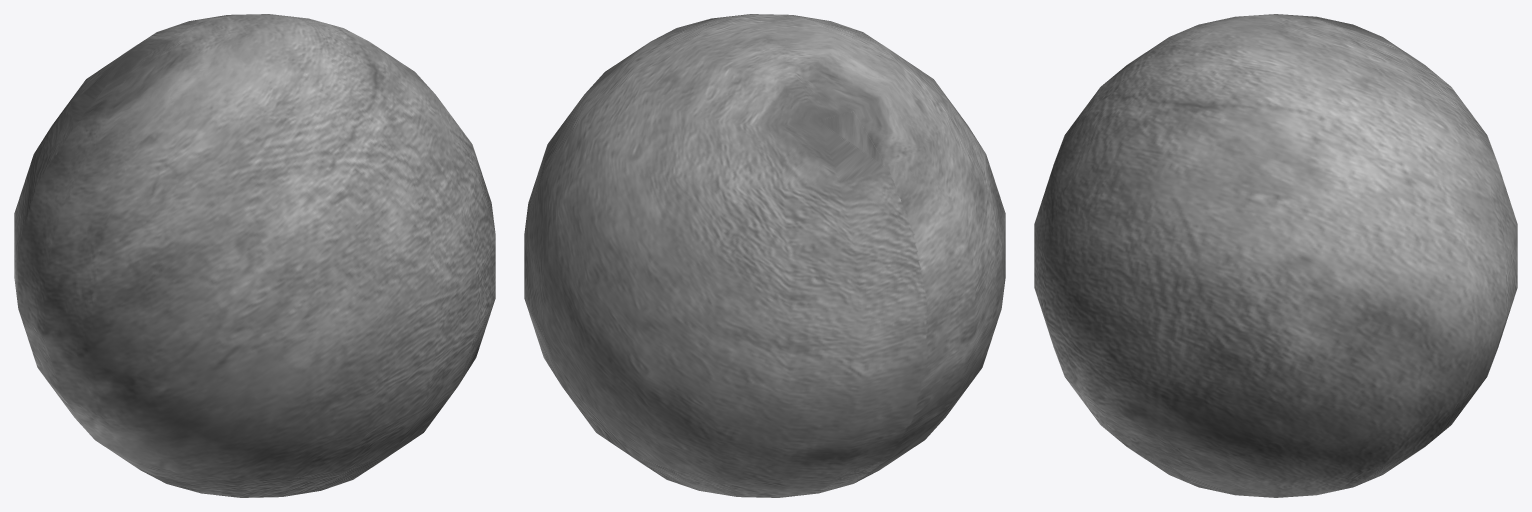
The model's file is MOONMODELglb.glb.
3 views of the same model, side by side, from view 1: azimuth 30°, elevation 25°; view 2: azimuth 150°, elevation 25°; view 3: azimuth 270°, elevation 25° (orthographic).
Visible parts, largest first — view 1: Sphere.001; view 2: Sphere.001; view 3: Sphere.001.
Part boxes in pixels (bbox=[...]): Sphere.001: bbox=[14, 14, 495, 497]; Sphere.001: bbox=[524, 14, 1005, 497]; Sphere.001: bbox=[1034, 14, 1517, 497].
Bounding box in the file's own units: 1.98 × 2 × 1.98.
Materials: 1 (1 with a texture image).
